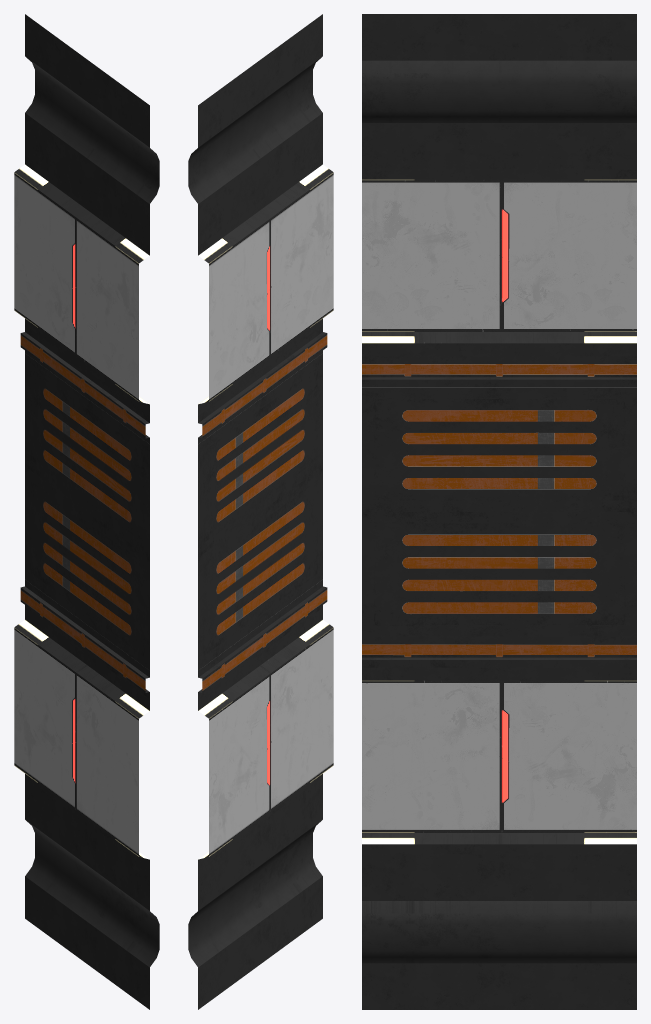
The model's file is MHalfWallRight.fbx.
The picture shows the model from 3 angles, left to right: view 1: azimuth 30°, elevation 25°; view 2: azimuth 150°, elevation 25°; view 3: azimuth 270°, elevation 25°; orthographic projection. The views are drawn at different scales.
Visible parts, largest first — view 1: MHalfWallRight; view 2: MHalfWallRight; view 3: MHalfWallRight.
Boxes of the visible parts, x1,y1,x2,y2 form: MHalfWallRight: (14, 14, 159, 1009); MHalfWallRight: (188, 14, 333, 1009); MHalfWallRight: (362, 14, 636, 1009).
Size of the model in its own units: 9.53 by 400 by 100.
